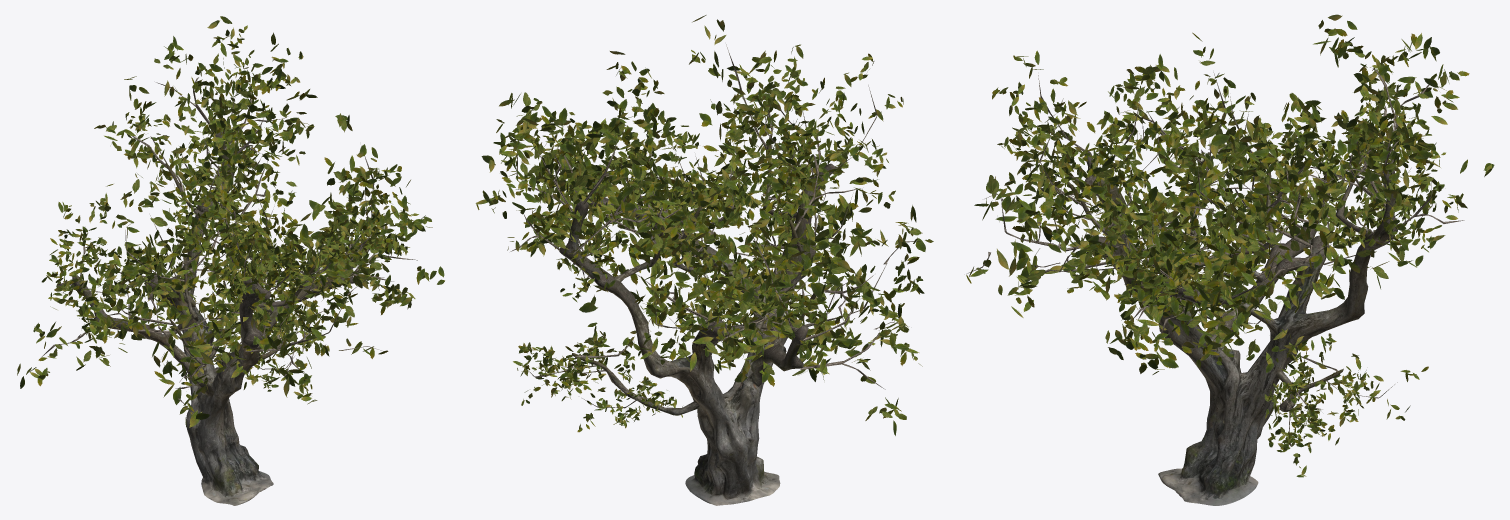
The picture shows the model from 3 angles, left to right: view 1: azimuth 30°, elevation 25°; view 2: azimuth 150°, elevation 25°; view 3: azimuth 270°, elevation 25°; orthographic projection. The views are drawn at different scales.
Parts seen in each view (by area): view 1: tree; view 2: tree; view 3: tree.
Part boxes in pixels (x1,y1,x2,y2): tree: (17, 16, 444, 505); tree: (475, 15, 933, 505); tree: (966, 14, 1494, 505).
Bounding box in the file's own units: 4.77 × 5.02 × 4.8.
Materials: 3 (3 with a texture image).
